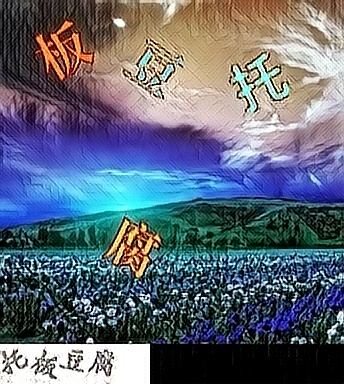B0E5: (35, 20, 97, 84)
B6B9: (122, 36, 184, 100)
B8AF: (103, 214, 165, 278)
CDD0: (228, 51, 290, 115)
